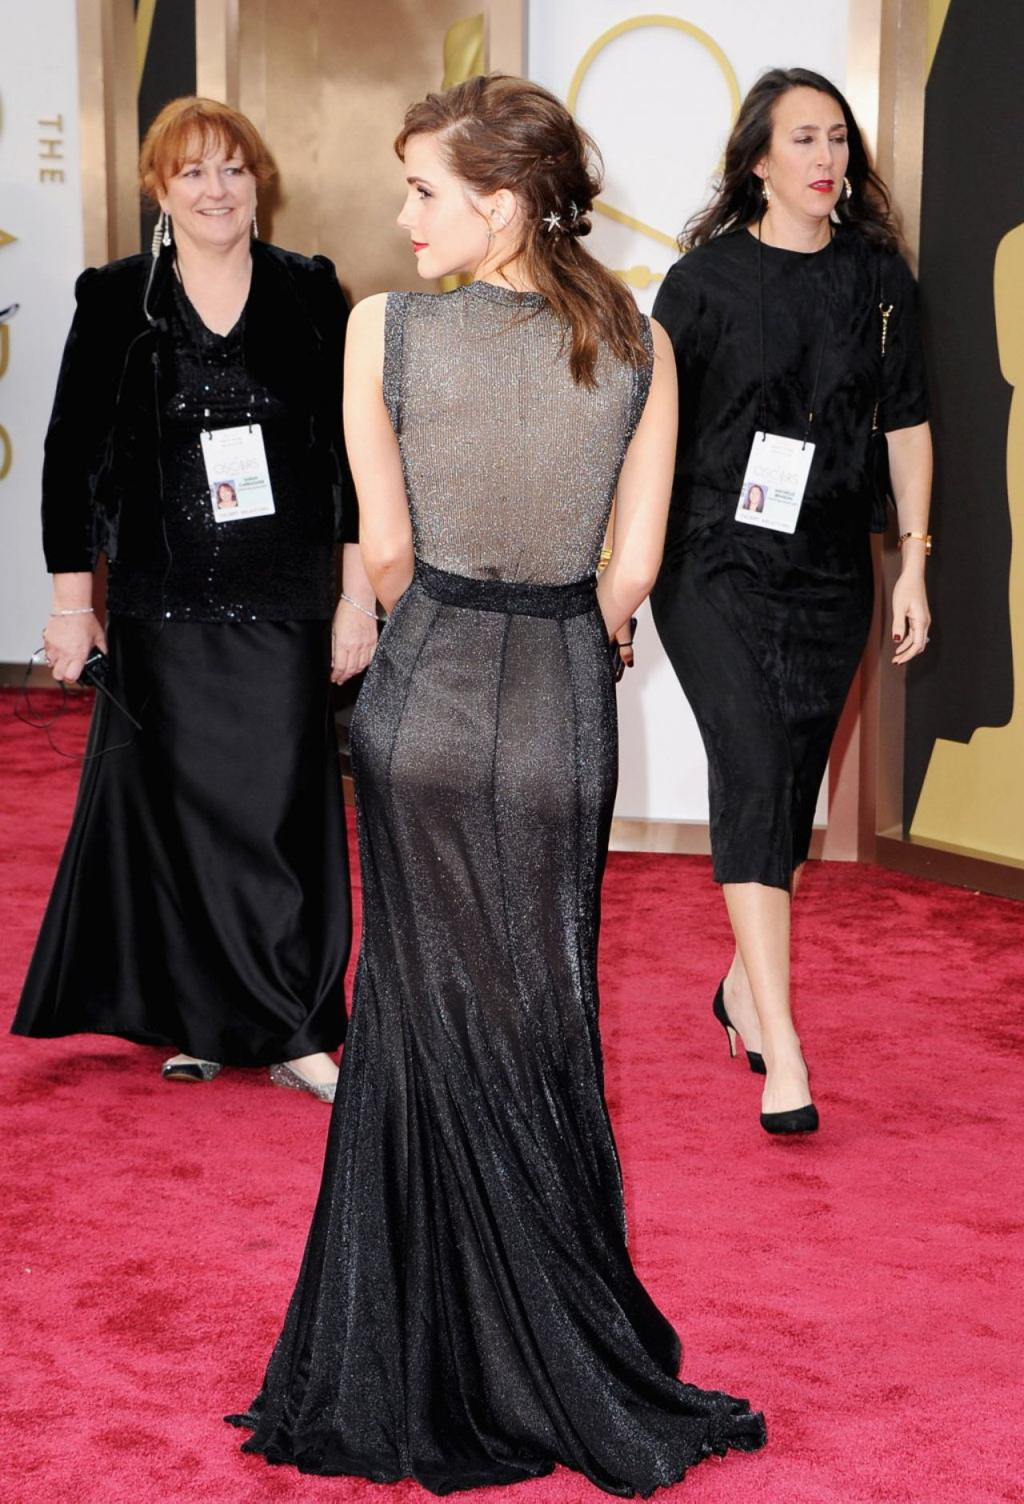face: (402, 135, 490, 282), (161, 120, 261, 249), (763, 94, 851, 217)
